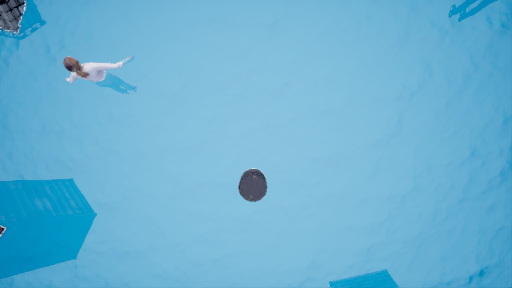person: (60, 53, 154, 101)
